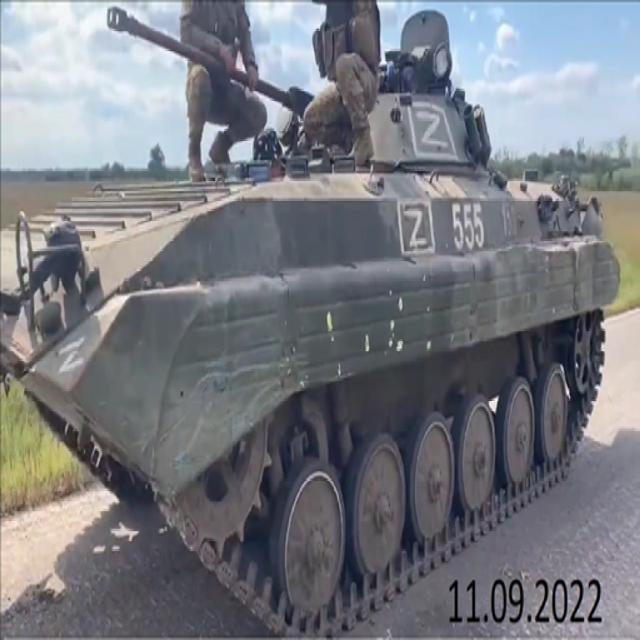APC-IFV: (0, 48, 620, 639)
